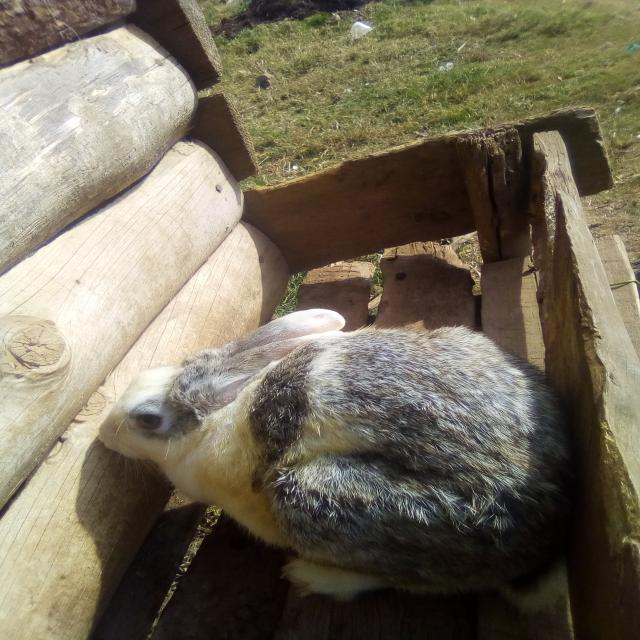rabbit: (65, 294, 633, 640)
